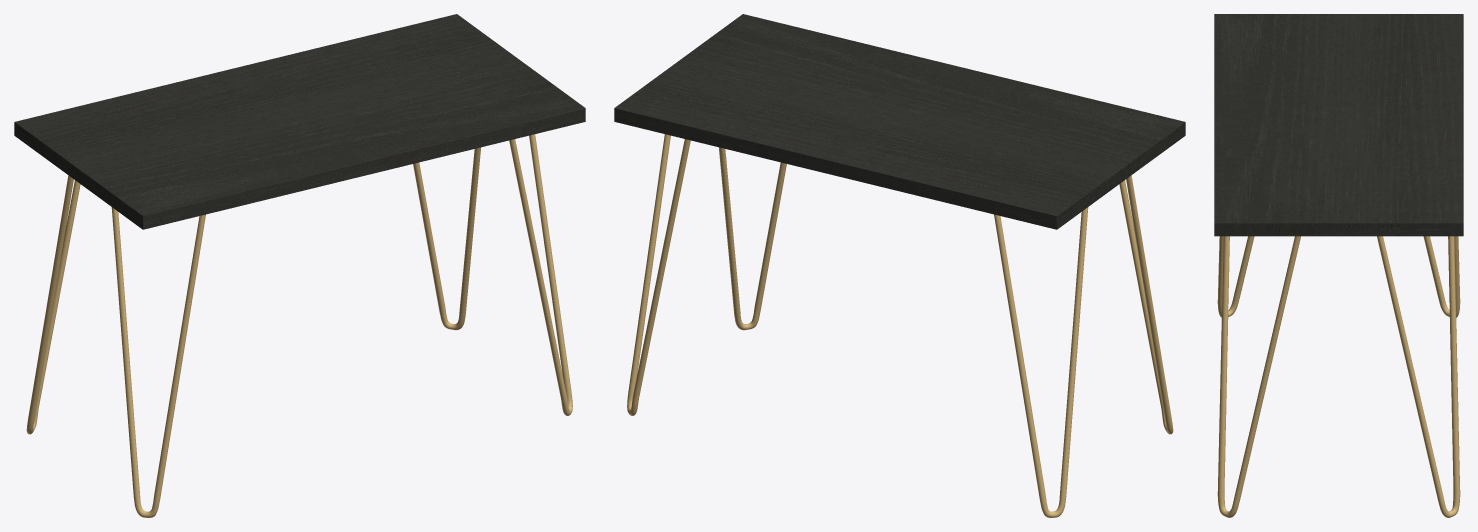
Rendered from abo-B07QC6354F.glb.
3 renders of one model, left to right at view 1: azimuth 30°, elevation 25°; view 2: azimuth 150°, elevation 25°; view 3: azimuth 270°, elevation 25°, orthographic. The views are drawn at different scales.
Bounding box in the file's own units: 0.991 × 0.66 × 0.499.
Materials: 1 (1 with a texture image).
